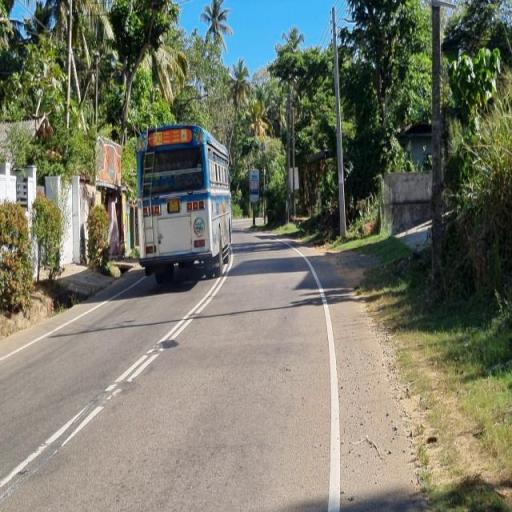double_white_line: (106, 213, 234, 400)
